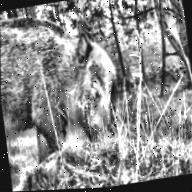boar: (0, 0, 148, 164)
